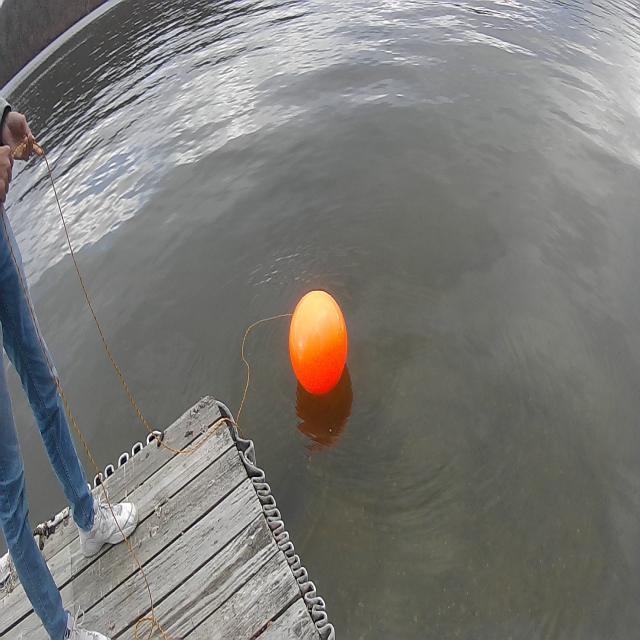Buoy: (288, 286, 350, 400)
